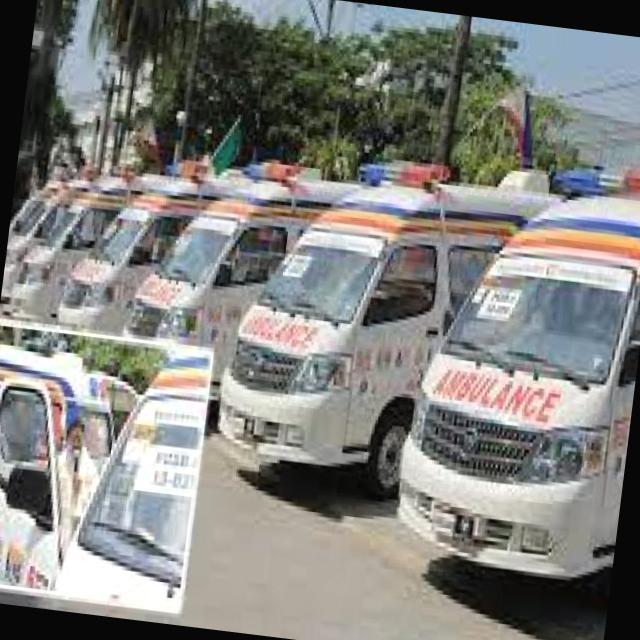emergency-vehicle: (213, 148, 569, 514), (383, 147, 640, 615), (112, 147, 378, 424), (56, 143, 246, 346)
